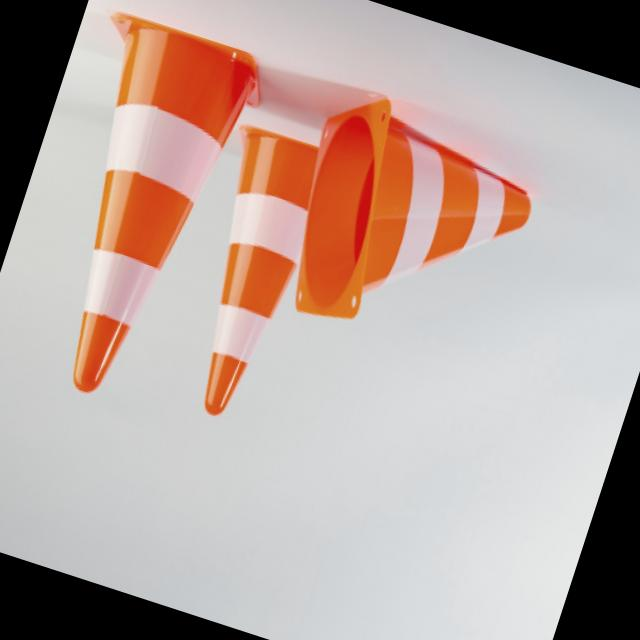cone: (0, 0, 272, 454), (266, 80, 588, 380)
